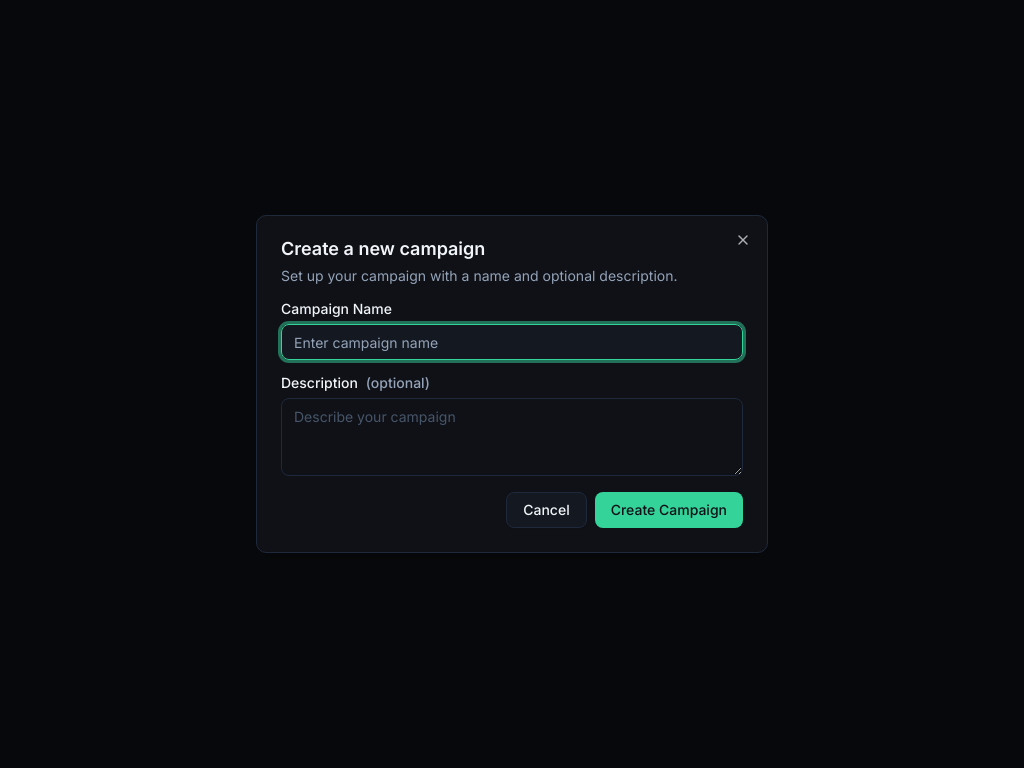
Test: CreateCampaignForm › should show validation error for empty name
Click the button "Create Campaign" at (669, 510), box [595, 492, 743, 528]
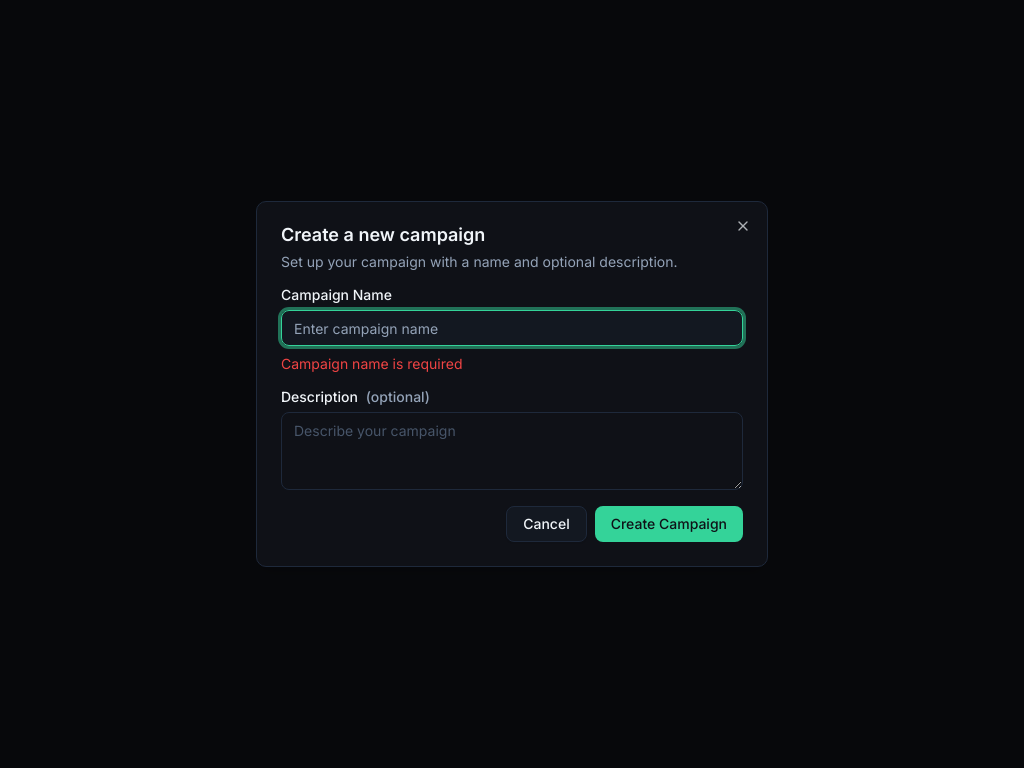
expect the text "Campaign name is required" is shown: met, box [281, 355, 462, 372]
